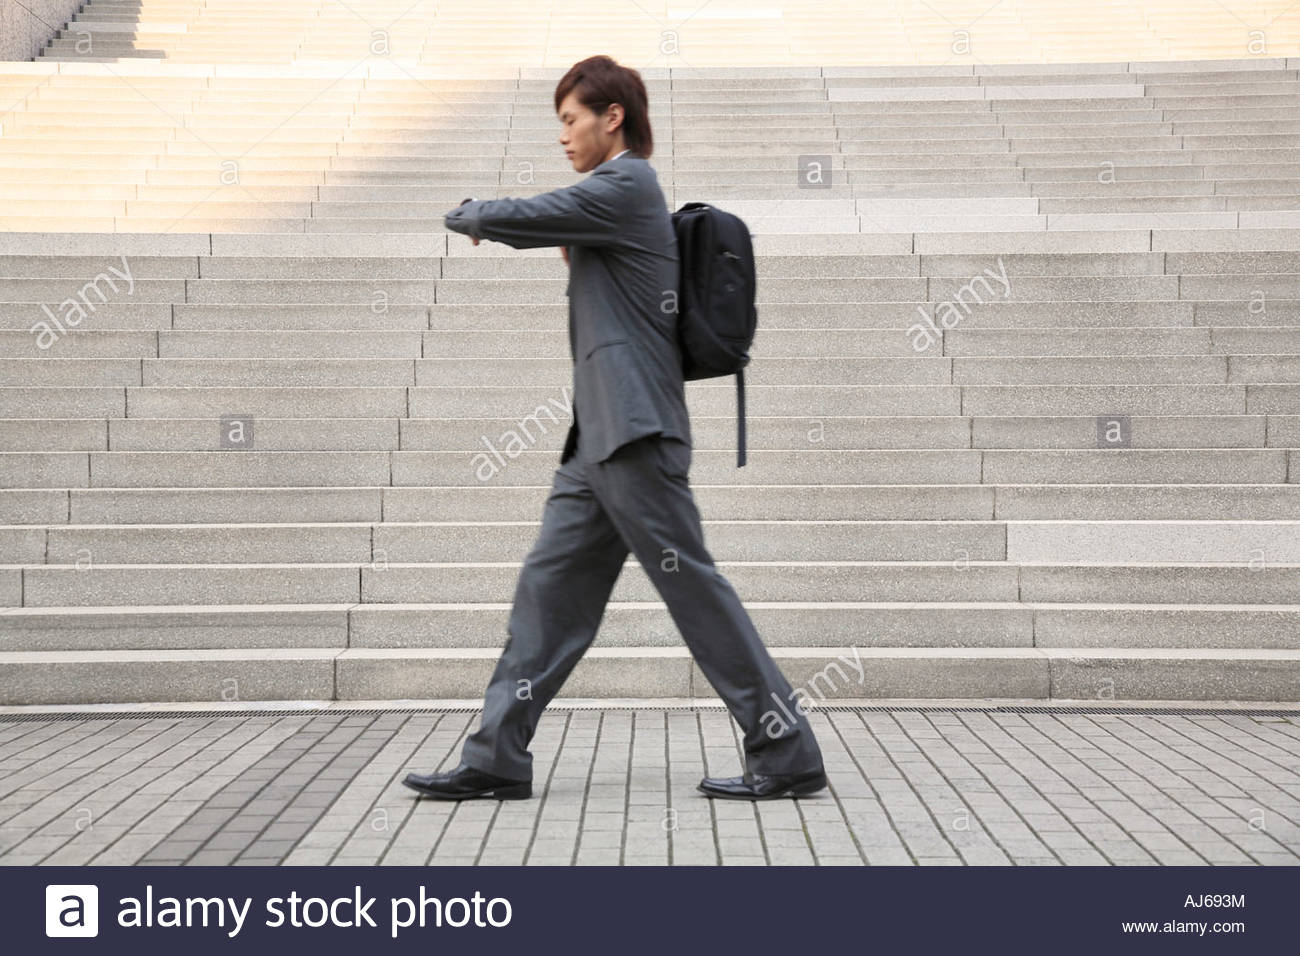feet: (391, 636, 851, 810)
